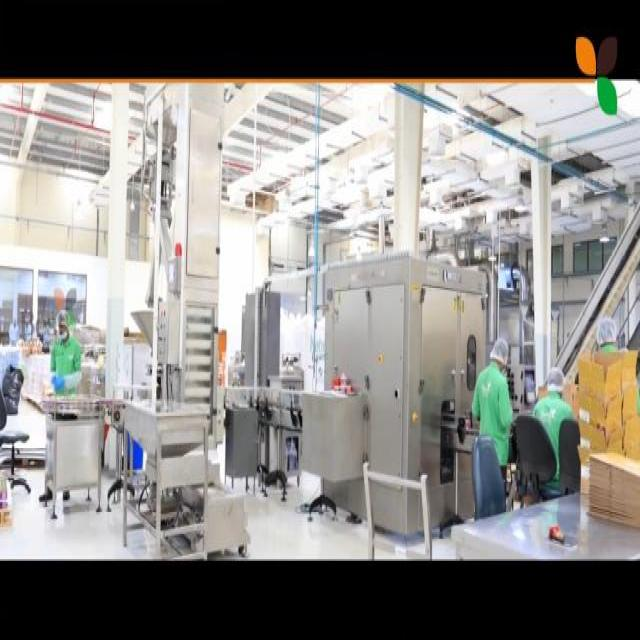hairnet: (596, 320, 617, 349), (492, 337, 510, 368), (545, 368, 564, 394), (57, 309, 73, 335)
